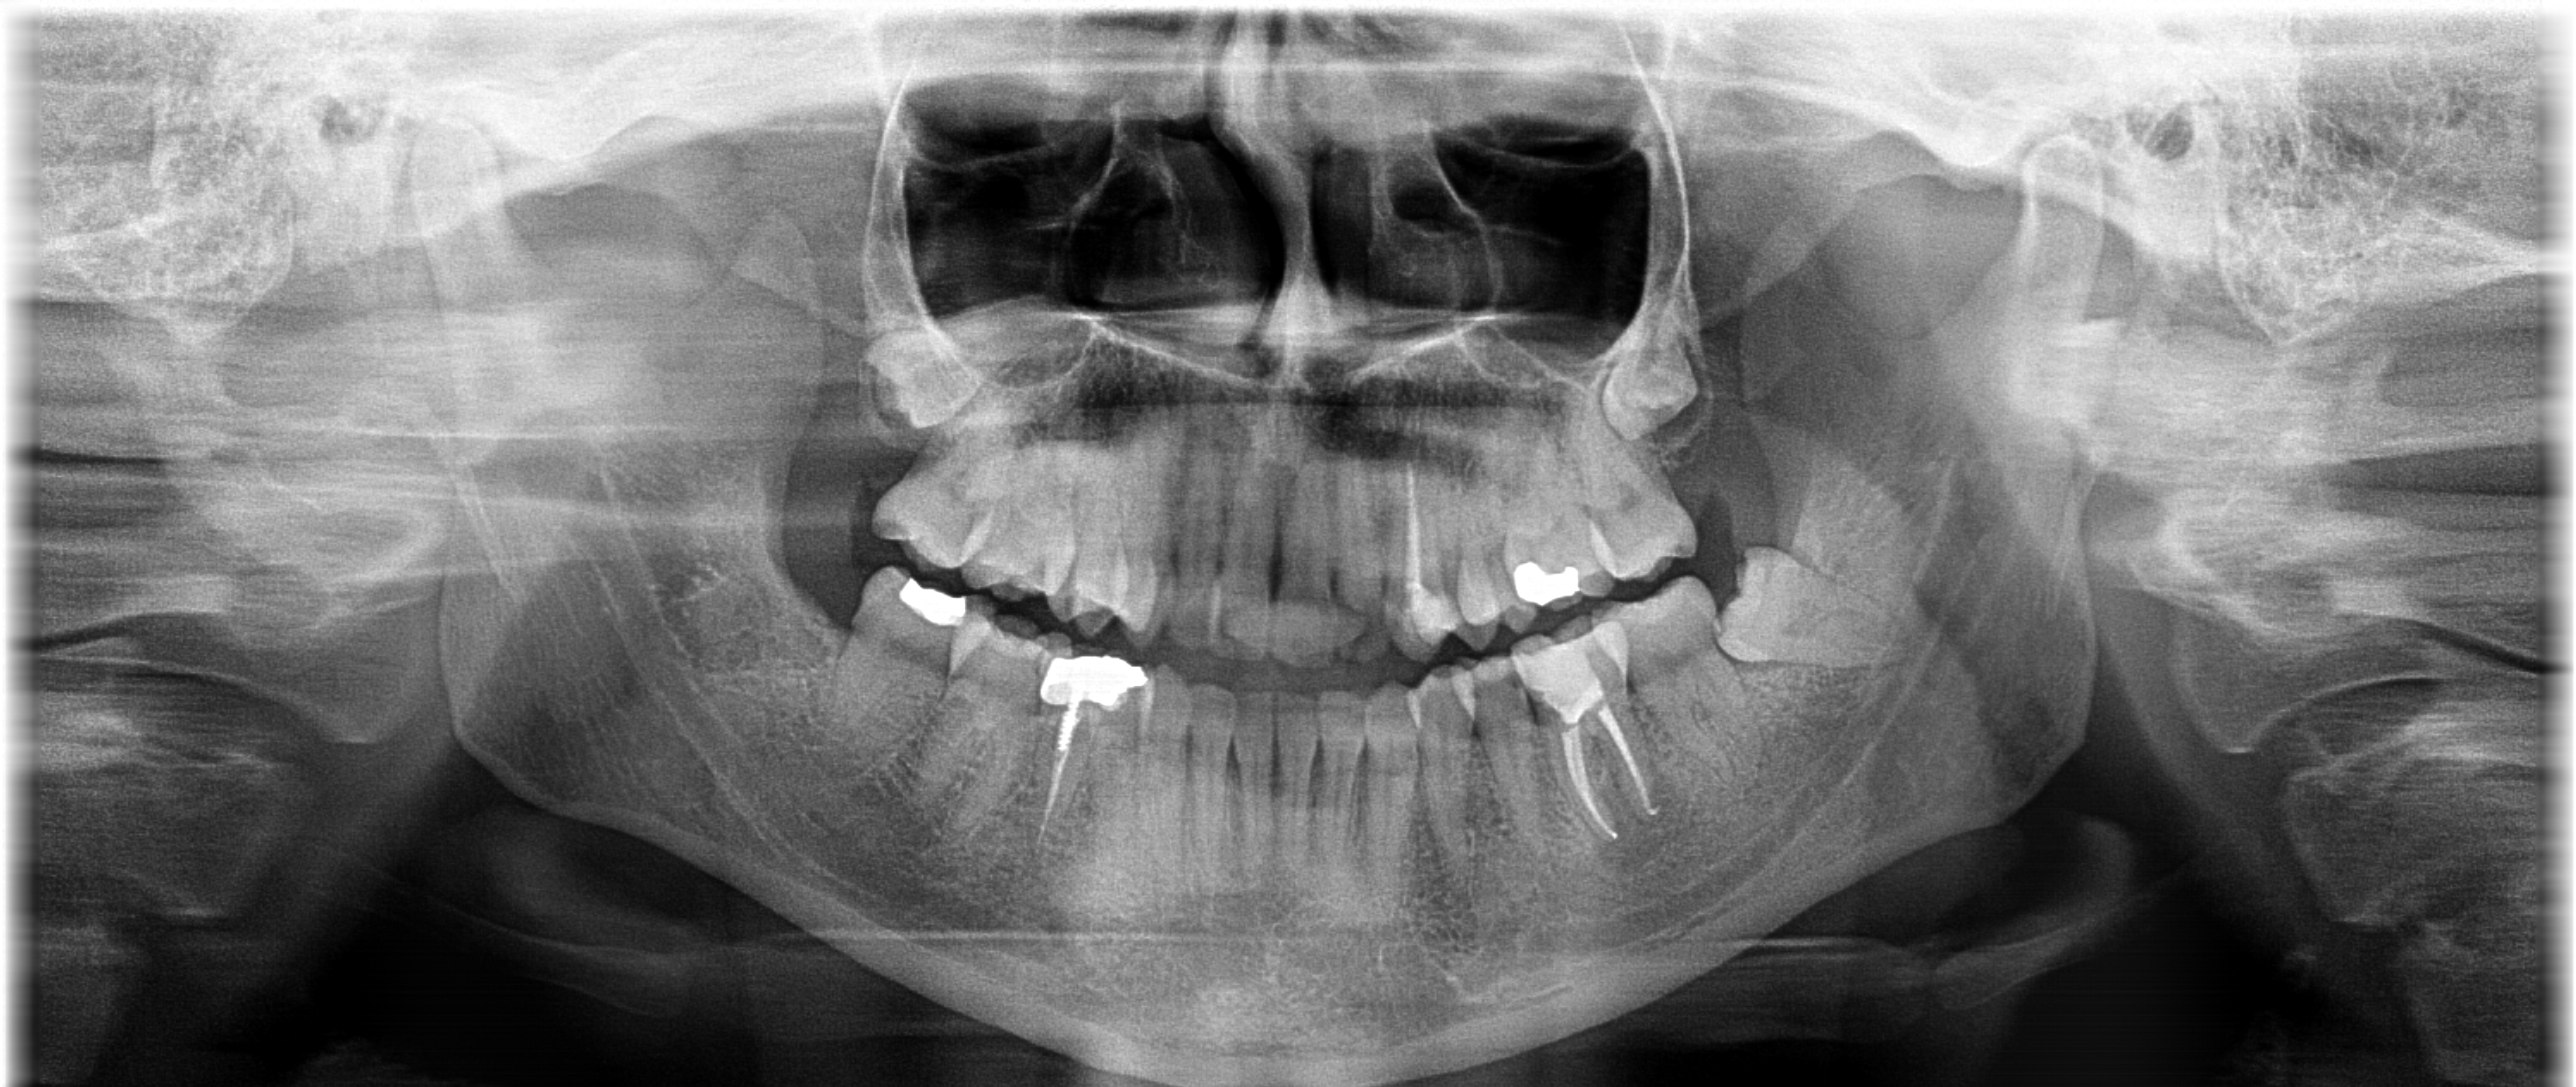cordal: (1690, 522, 1911, 693), (841, 307, 1074, 447), (1544, 307, 1741, 465)
tratamiento_conducto: (1495, 601, 1674, 852), (1005, 632, 1184, 883), (1362, 412, 1470, 680)
